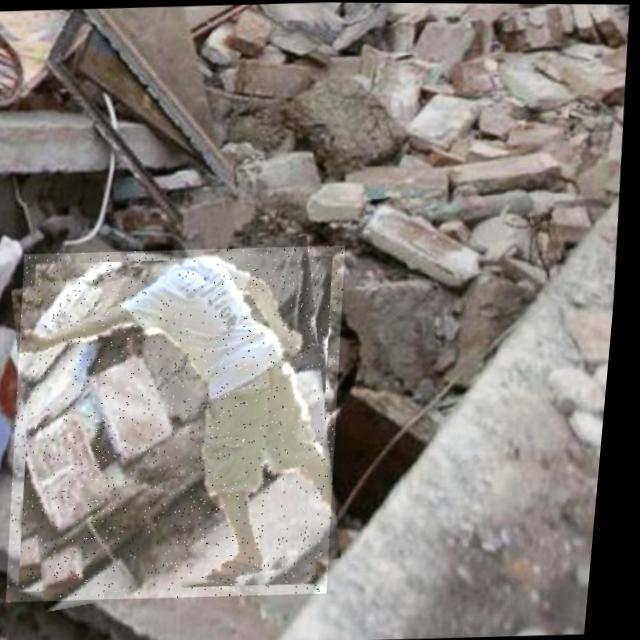Person in Rubble: (4, 243, 362, 604)
